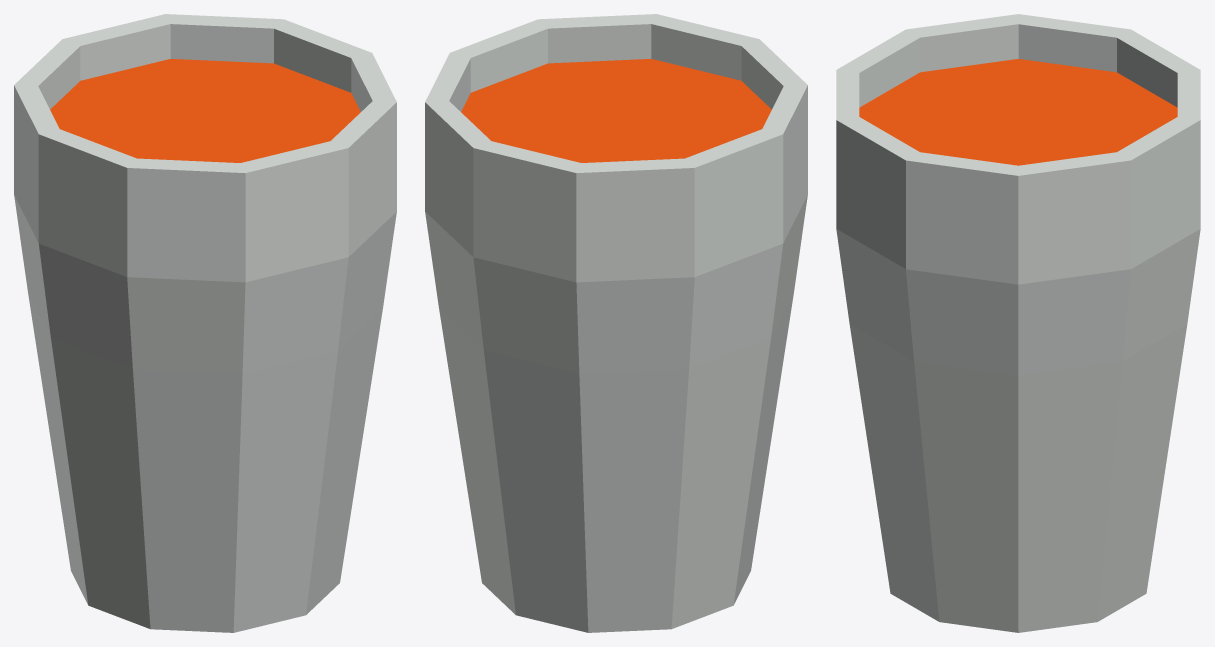
File: Orange_soda_cup.glb
3 renders of one model, left to right at view 1: azimuth 30°, elevation 25°; view 2: azimuth 150°, elevation 25°; view 3: azimuth 270°, elevation 25°, orthographic.
Visible parts, largest first — view 1: Cup; view 2: Cup; view 3: Cup.
Part boxes in pixels (bbox=[...]): Cup: bbox=[14, 14, 396, 632]; Cup: bbox=[425, 14, 807, 632]; Cup: bbox=[836, 14, 1200, 632].
Size of the model in its own units: 0.4744 by 0.6572 by 0.4511.
Materials: 1 (1 with a texture image).
